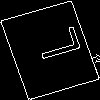L: (25, 24, 82, 65)
